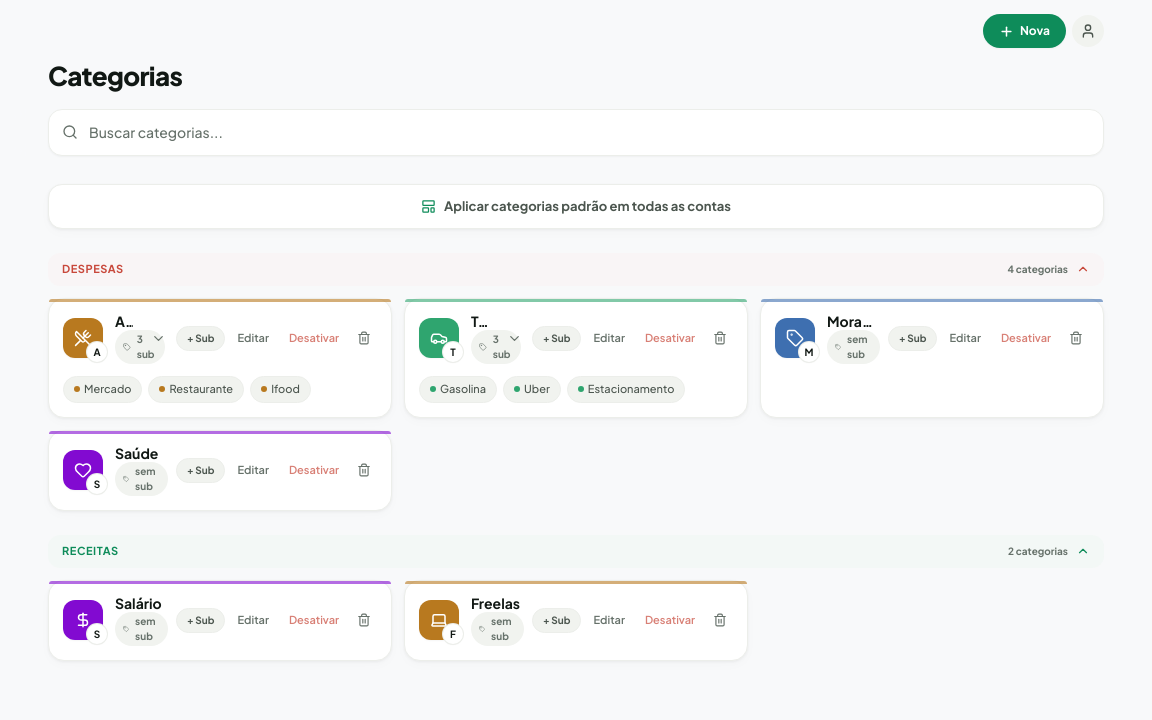
Scenario: CategoriesPage › category actions › opens confirm dialog when desativar is clicked
Click the button "Desativar" in the row of "Alimentação": x=314, y=338 [281,326,347,350]
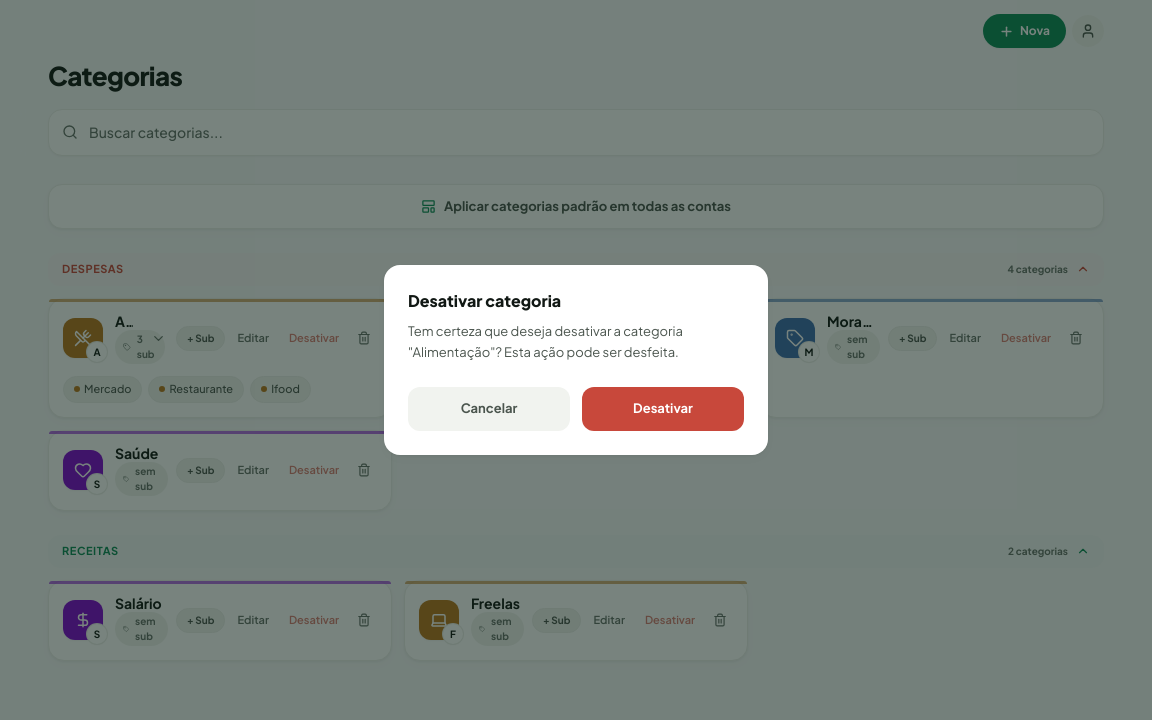
expect the heading "Desativar categoria" is shown: met, box [408,290,561,311]
